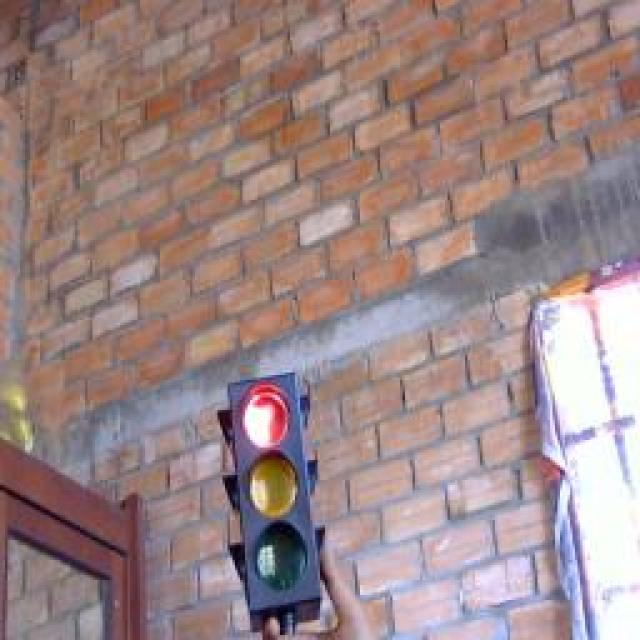-: (236, 377, 304, 455)
